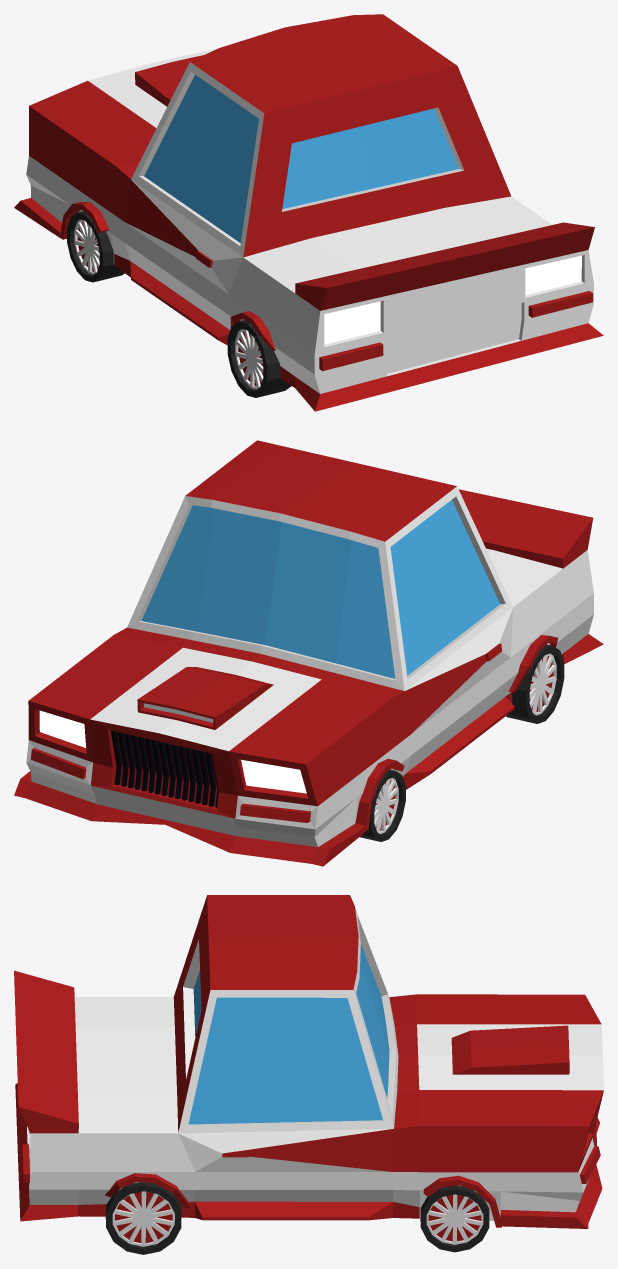
Rendered from car.FBX.
3 views of the same model, one above another, from view 1: azimuth 30°, elevation 25°; view 2: azimuth 150°, elevation 25°; view 3: azimuth 270°, elevation 25° (orthographic). The views are drawn at different scales.
Visible parts, largest first — view 1: body, backlight, wheel_1, wheel1_1, front_fender, rear_fender; view 2: body, lattice_1, wheel_1, headlight, wheel1_1, front_fender, rear_fender; view 3: body, wheel_1, wheel1_1, front_fender, rear_fender.
Part boxes in pixels (x1,y1,x2,y2): body: (14, 14, 603, 411); backlight: (324, 255, 581, 344); wheel_1: (227, 320, 291, 397); wheel1_1: (67, 211, 124, 282); front_fender: (60, 202, 108, 239); rear_fender: (230, 311, 276, 350); body: (14, 440, 603, 866); lattice_1: (111, 730, 218, 807); wheel_1: (506, 644, 564, 723); headlight: (39, 710, 306, 793); wheel1_1: (360, 769, 405, 841); front_fender: (355, 758, 404, 830); rear_fender: (508, 635, 558, 692); body: (14, 895, 603, 1228); wheel_1: (105, 1182, 181, 1254); wheel1_1: (420, 1185, 489, 1252); front_fender: (423, 1175, 501, 1227); rear_fender: (105, 1173, 190, 1208).
Size of the model in its own units: 259 by 204 by 440.
